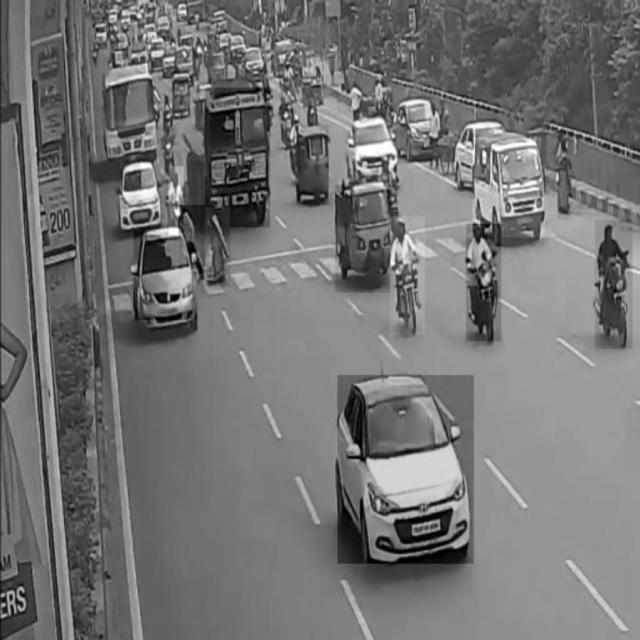person: (203, 208, 230, 286), (179, 205, 205, 273), (558, 136, 574, 220)
vehicle: (338, 375, 474, 563), (206, 87, 270, 227), (473, 138, 541, 238), (335, 185, 395, 293), (134, 232, 196, 320), (105, 68, 159, 161), (594, 220, 632, 348), (466, 224, 501, 342), (390, 217, 425, 335), (348, 119, 400, 186), (296, 126, 328, 206), (121, 163, 158, 227), (169, 166, 184, 234)
